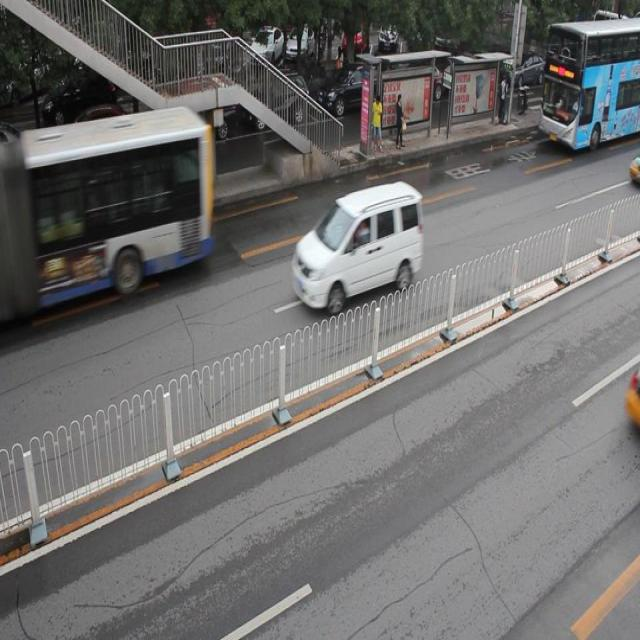car: (51, 104, 135, 173), (146, 94, 234, 158), (319, 67, 392, 132), (249, 74, 314, 135), (1, 127, 33, 180)
truck: (290, 177, 423, 312)
van: (1, 103, 214, 324), (538, 1, 640, 154)
